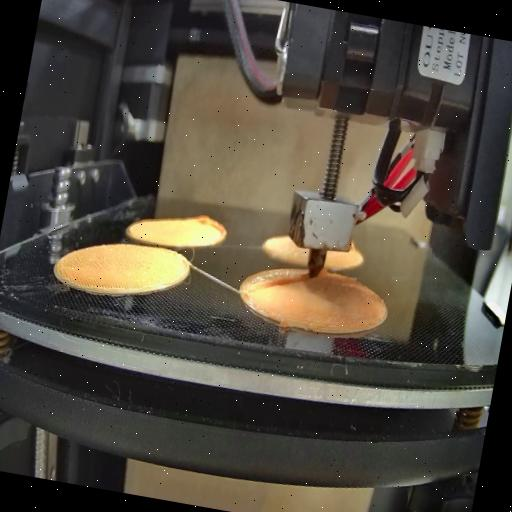over_extrusion: (248, 262, 308, 302), (193, 210, 230, 248), (349, 238, 356, 252)
